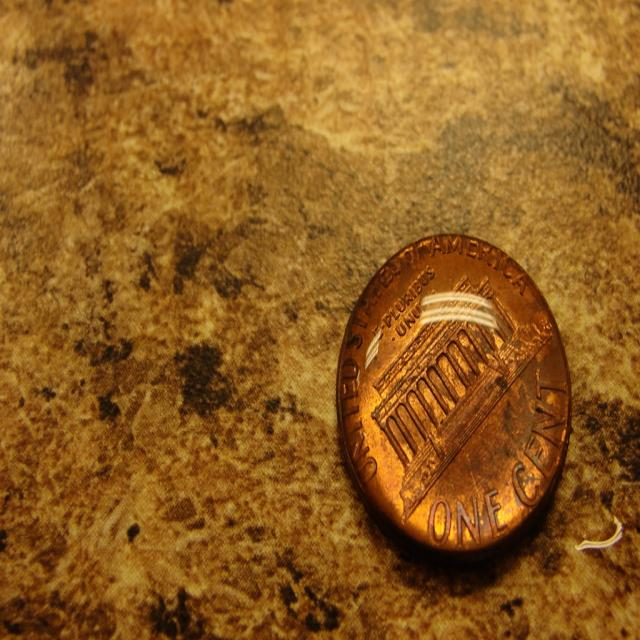Coin: (334, 231, 577, 559)
